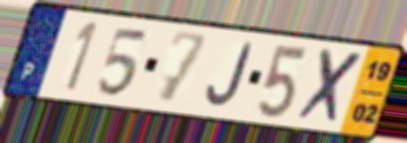1: (65, 21, 101, 95)
5: (254, 41, 314, 121), (95, 25, 153, 98)
7: (157, 28, 210, 108)
J: (204, 41, 256, 109)
X: (293, 46, 367, 128)
